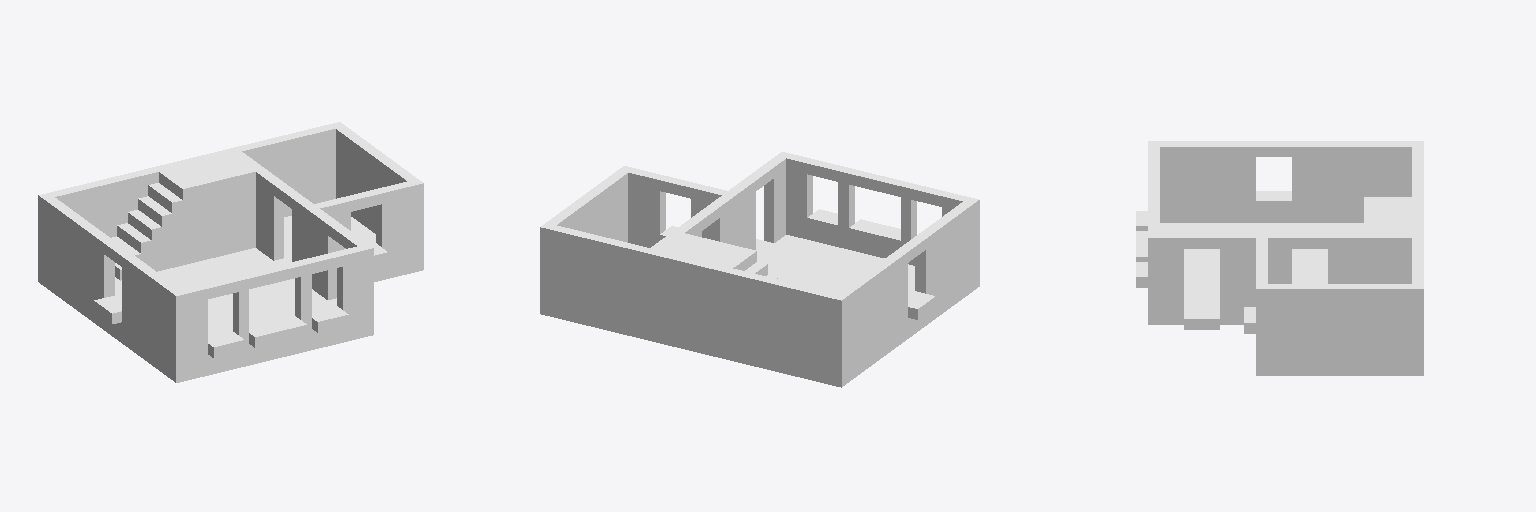
File: floor_one.obj
3 views of the same model, side by side, from view 1: azimuth 30°, elevation 25°; view 2: azimuth 150°, elevation 25°; view 3: azimuth 270°, elevation 25° (orthographic).
Parts seen in each view (by area): view 1: 1st floor; view 2: 1st floor; view 3: 1st floor.
Part boxes in pixels (x1,y1,x2,y2): 1st floor: (38, 122, 423, 382); 1st floor: (540, 152, 979, 387); 1st floor: (1136, 141, 1423, 375).
Bounding box in the file's own units: 3 × 0.8 × 2.4.